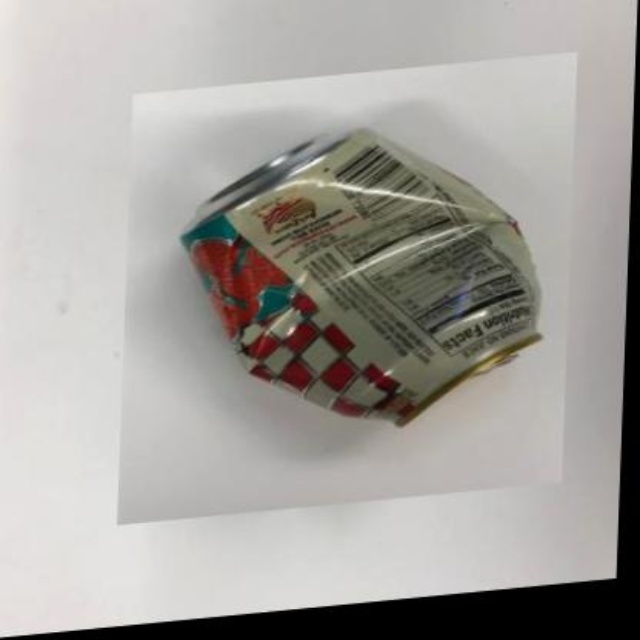trash: (182, 129, 540, 425)
